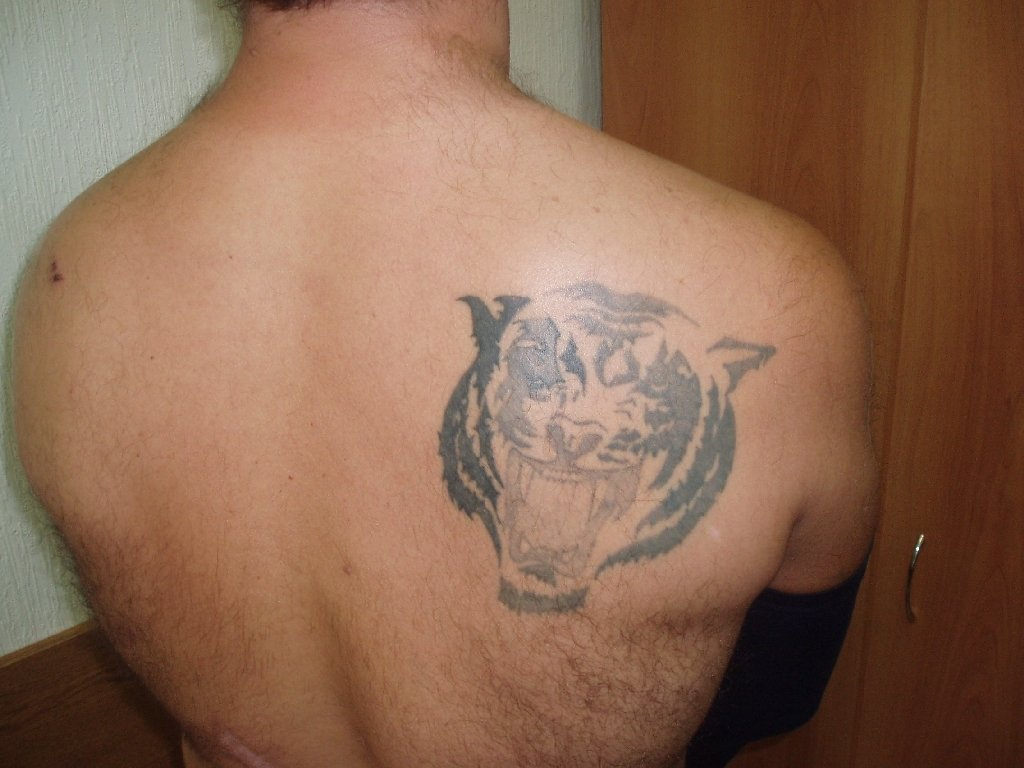tatu5_tigr: (434, 282, 783, 623)
